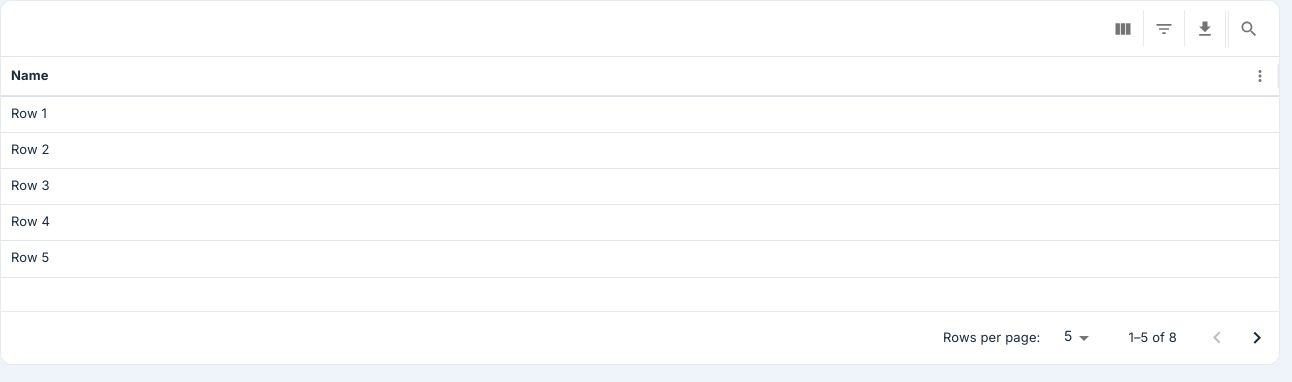
Test: AppDataGrid › paginates across multiple pages of rows
This screenshot has width=1292, height=382.
Expected: the text "Row 1" is shown, top-left (11, 106), bottom-right (47, 122)
Expected: the text "Row 6" is not shown
Click the button named "go to next page". click: (1257, 338)
box: top-left (1237, 318), bottom-right (1277, 358)
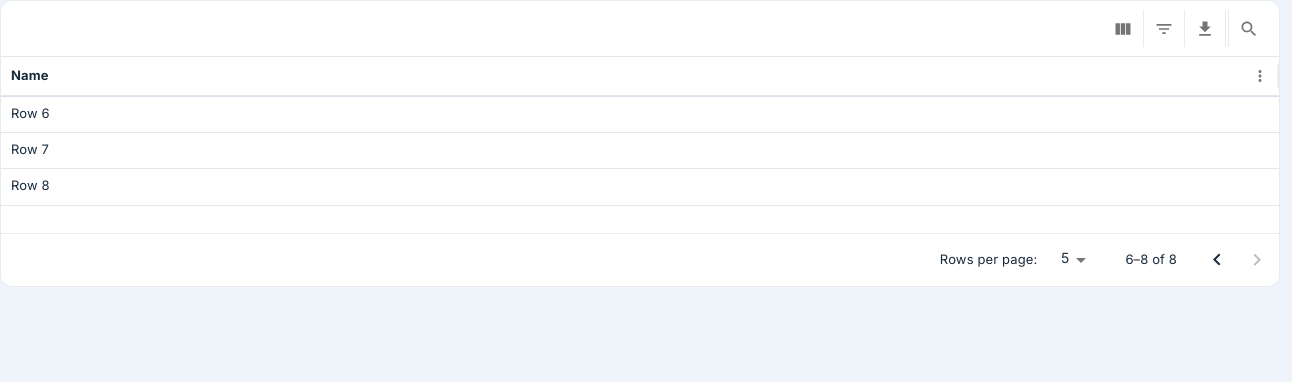
Expected: the text "Row 6" is shown, top-left (11, 106), bottom-right (50, 122)
Expected: the text "Row 1" is gone
